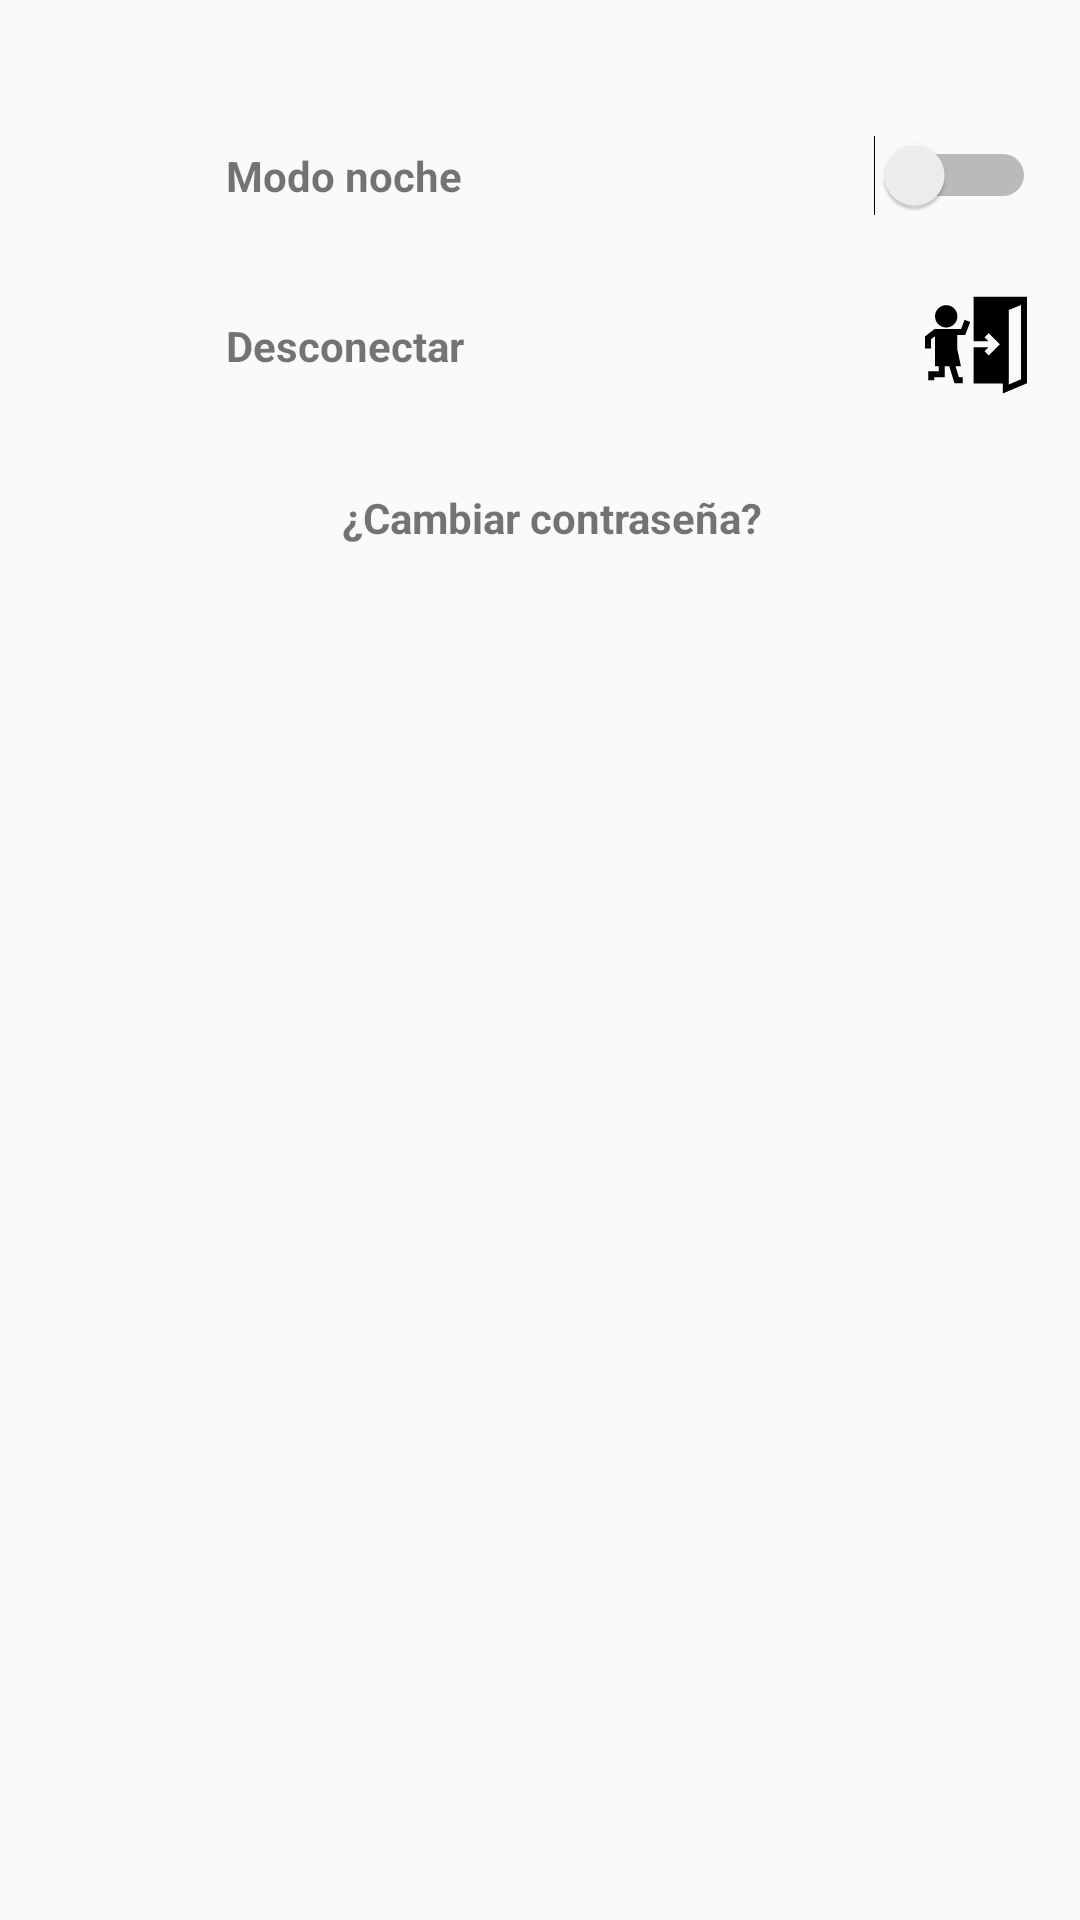

Locate icon controls on the screen. Image size 1080px x 1920px, boxes as (x1, y1, x2, y2).
exit: (925, 296, 1027, 394)
